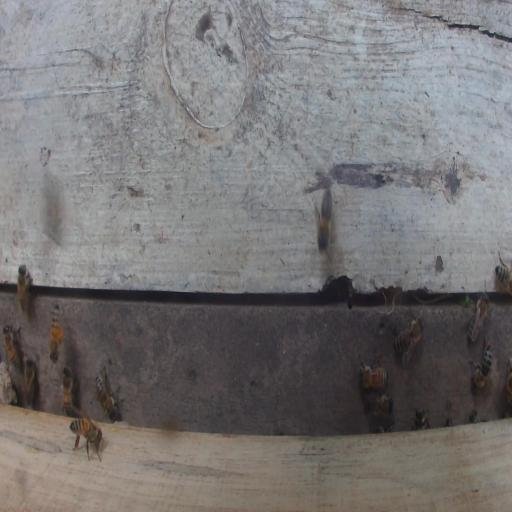bee: (69, 404, 105, 465), (94, 362, 125, 423), (387, 318, 424, 368), (467, 334, 493, 389), (465, 290, 490, 344), (314, 189, 334, 253), (359, 387, 394, 421), (357, 353, 388, 390), (2, 321, 22, 371), (15, 262, 34, 313), (22, 355, 40, 407), (49, 304, 64, 364), (59, 364, 76, 416), (495, 248, 511, 297), (410, 408, 431, 431)
